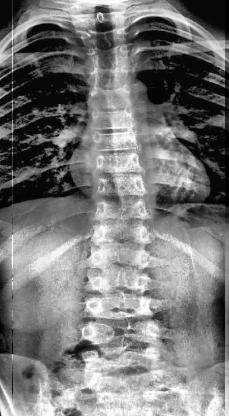Vertebrae: (78, 317, 168, 349), (85, 293, 166, 321), (80, 266, 156, 294), (85, 243, 155, 269), (88, 223, 152, 247), (90, 199, 154, 221), (88, 176, 152, 198), (86, 152, 146, 174), (89, 107, 139, 132), (86, 86, 138, 110), (90, 130, 142, 152), (82, 25, 134, 47), (85, 44, 133, 66), (89, 65, 135, 87), (74, 8, 128, 26)
